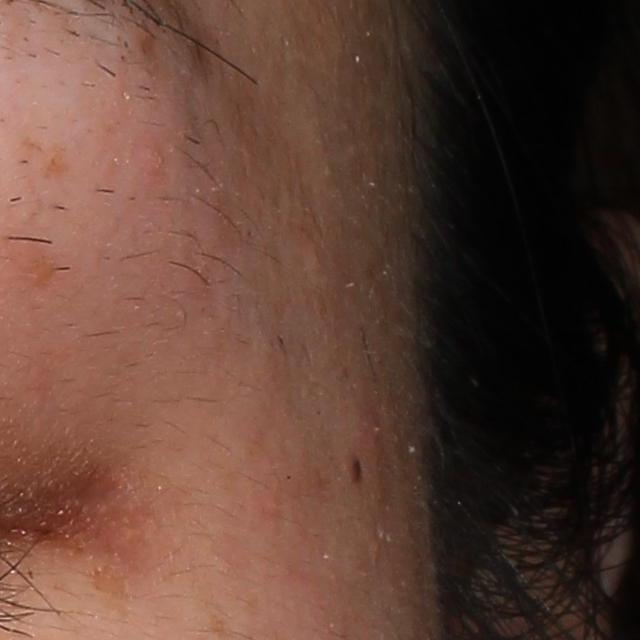melasma: (82, 565, 137, 605)
nevus: (348, 452, 365, 486)
